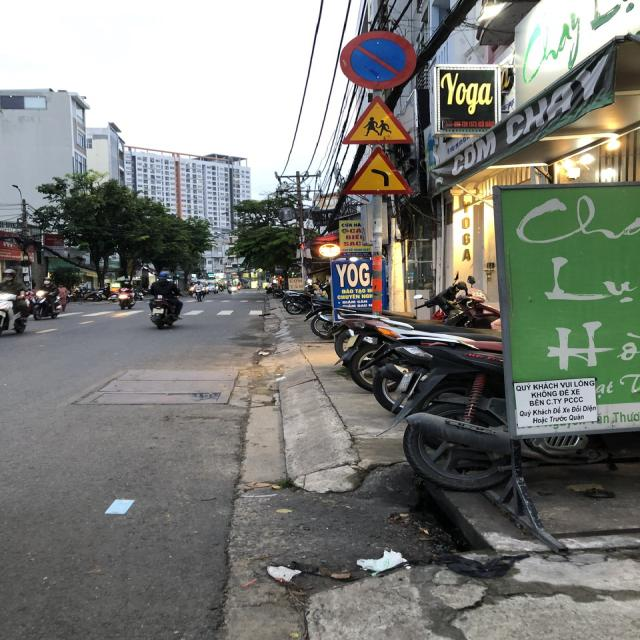Bien bao cam do xe: (330, 24, 426, 92)
Bien bao cho ngoat nguy hiem: (335, 143, 420, 200)
Bien bao tre em: (330, 92, 421, 147)
